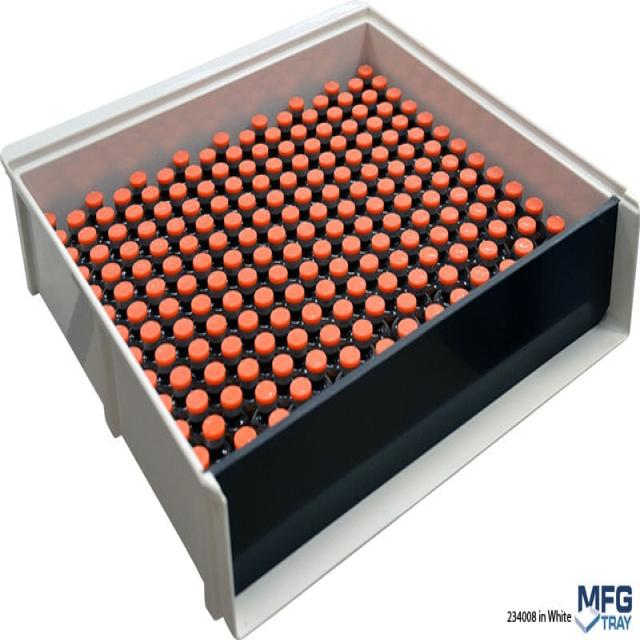vial: (203, 362, 229, 388), (251, 381, 277, 405), (239, 307, 259, 333), (178, 272, 196, 299), (274, 354, 295, 377), (146, 277, 169, 298), (189, 340, 210, 362), (160, 300, 182, 321), (84, 187, 106, 208), (220, 388, 243, 408), (189, 387, 208, 411), (173, 362, 190, 388), (428, 306, 448, 328), (254, 288, 276, 308), (210, 269, 228, 293), (192, 294, 212, 315), (319, 324, 341, 343), (157, 344, 180, 362), (382, 211, 401, 232), (112, 189, 134, 207), (194, 443, 211, 466), (238, 358, 255, 381), (66, 209, 89, 226), (411, 271, 430, 291), (399, 316, 418, 336), (366, 295, 386, 314), (341, 344, 360, 364), (129, 167, 148, 187), (204, 414, 223, 434), (175, 418, 193, 439), (306, 352, 324, 373), (358, 253, 378, 271), (330, 258, 350, 276), (269, 264, 287, 284), (256, 333, 274, 353), (142, 320, 160, 340), (130, 302, 148, 322), (271, 406, 288, 427), (227, 248, 243, 270), (335, 300, 354, 318), (252, 207, 271, 225), (292, 376, 310, 395), (175, 320, 193, 339), (120, 237, 138, 256), (296, 220, 316, 237), (286, 284, 303, 304), (103, 262, 120, 282), (300, 259, 316, 280), (272, 307, 288, 328), (106, 222, 127, 238), (308, 169, 326, 187), (221, 334, 239, 352), (373, 235, 390, 254), (318, 280, 335, 299), (194, 252, 211, 271), (207, 313, 224, 332), (278, 168, 298, 184), (352, 319, 372, 335), (224, 176, 244, 192), (240, 268, 256, 288), (133, 256, 149, 276), (398, 293, 416, 310), (223, 288, 240, 306), (516, 237, 532, 256), (390, 251, 409, 267), (239, 227, 255, 246), (81, 228, 100, 244), (89, 283, 104, 303), (383, 127, 400, 144), (481, 240, 498, 257), (347, 276, 364, 293), (237, 425, 254, 442), (416, 157, 432, 175), (449, 244, 467, 260), (440, 268, 458, 284), (340, 202, 358, 218), (302, 304, 318, 322), (254, 247, 270, 265), (225, 210, 241, 228), (163, 257, 182, 272), (90, 243, 109, 258), (472, 200, 486, 220), (473, 266, 489, 283), (420, 247, 436, 264), (310, 203, 327, 219), (268, 226, 285, 242), (212, 162, 229, 178), (289, 329, 306, 345), (210, 232, 227, 248), (194, 215, 211, 231), (444, 156, 462, 171), (430, 227, 448, 242), (394, 193, 409, 211), (292, 152, 307, 170), (381, 272, 396, 290), (169, 182, 187, 197), (118, 284, 136, 299), (378, 337, 397, 351), (326, 222, 346, 235), (304, 140, 320, 156), (356, 215, 372, 231), (266, 126, 282, 142), (188, 167, 204, 183), (427, 190, 442, 207), (335, 165, 350, 182), (320, 154, 338, 168), (314, 242, 332, 256), (283, 245, 301, 259), (182, 232, 196, 250), (242, 159, 255, 178), (426, 140, 442, 155), (401, 143, 416, 159), (369, 115, 384, 131), (367, 197, 382, 213), (323, 187, 339, 202), (200, 147, 216, 162), (198, 180, 213, 196), (549, 215, 563, 232), (139, 224, 156, 238), (98, 207, 116, 220), (130, 343, 142, 362), (499, 201, 514, 216), (413, 210, 428, 225), (477, 183, 493, 197), (379, 179, 395, 193), (402, 234, 418, 248), (343, 238, 359, 252), (296, 188, 310, 204), (284, 206, 300, 220), (238, 193, 254, 207), (212, 194, 226, 210), (156, 166, 170, 182), (156, 200, 170, 216), (151, 240, 167, 254), (142, 369, 155, 386), (390, 158, 402, 176), (519, 217, 533, 232), (396, 115, 410, 130), (444, 206, 458, 221), (328, 106, 343, 120), (280, 142, 294, 157), (268, 190, 283, 204), (173, 148, 188, 162), (57, 229, 70, 245), (509, 181, 522, 197), (389, 84, 402, 100), (434, 172, 450, 185), (239, 131, 255, 144), (182, 200, 198, 213), (170, 217, 183, 233), (145, 185, 158, 201), (452, 138, 466, 152), (380, 103, 394, 117), (340, 92, 354, 106), (317, 120, 331, 134), (267, 158, 281, 172), (255, 176, 269, 190), (357, 131, 372, 144), (332, 135, 345, 150), (126, 206, 141, 219), (115, 326, 128, 340), (102, 304, 115, 318), (488, 167, 502, 180), (471, 151, 484, 165), (410, 126, 423, 140), (463, 222, 476, 236), (407, 174, 420, 188), (303, 108, 316, 122), (290, 97, 304, 110), (352, 182, 366, 195), (292, 125, 306, 138), (255, 144, 268, 158), (159, 393, 171, 408), (78, 265, 90, 280), (529, 195, 541, 210), (490, 220, 505, 232), (67, 246, 78, 262), (226, 149, 242, 160), (436, 124, 449, 137), (463, 170, 476, 183), (452, 189, 465, 202), (278, 112, 291, 125), (255, 116, 268, 129), (375, 146, 387, 160), (362, 166, 376, 178), (375, 75, 386, 90), (46, 210, 56, 226), (214, 134, 230, 144), (326, 80, 339, 92), (421, 111, 432, 125), (450, 291, 464, 302), (366, 90, 376, 105), (402, 99, 416, 109), (362, 64, 373, 76), (355, 103, 366, 115), (344, 121, 356, 132), (347, 151, 359, 162), (350, 78, 361, 89), (314, 94, 324, 105), (502, 259, 512, 269)
